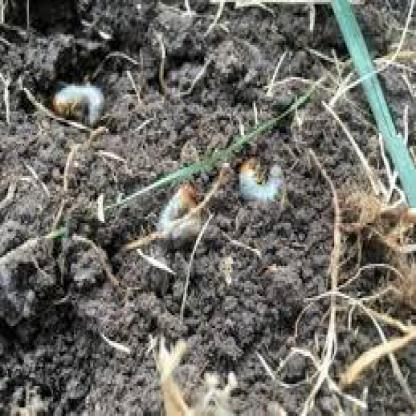root grubs: (237, 159, 288, 206), (55, 83, 104, 125)
